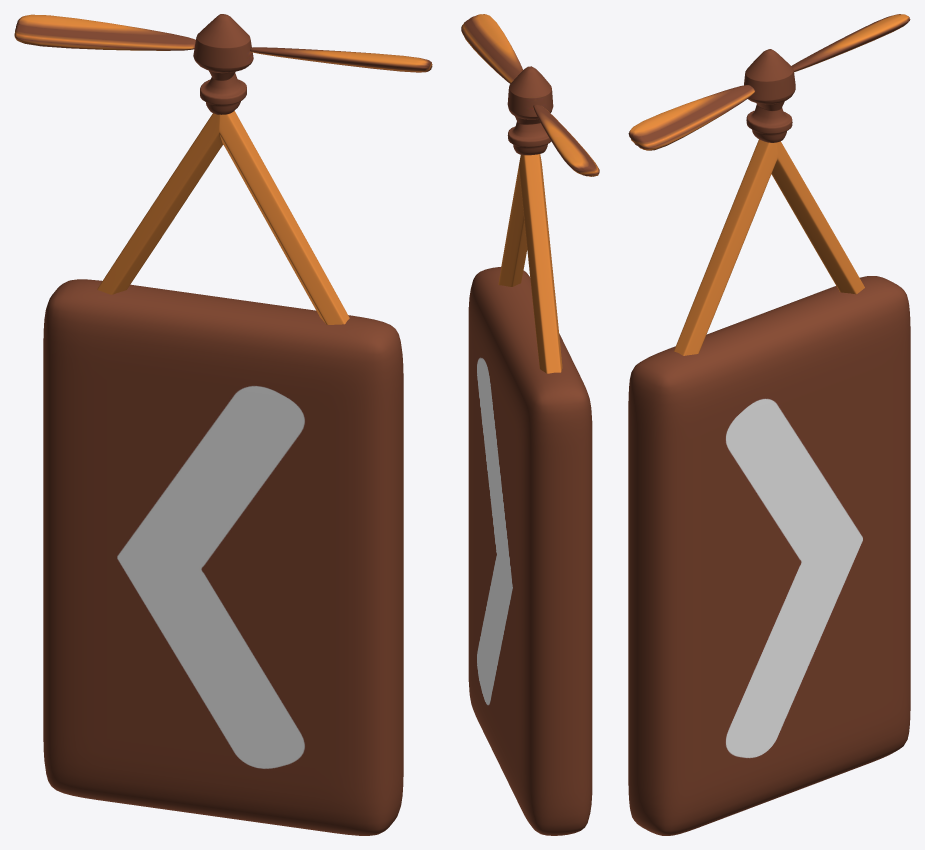
The model's file is directional_arrow.fbx.
The picture shows the model from 3 angles, left to right: view 1: azimuth 30°, elevation 25°; view 2: azimuth 150°, elevation 25°; view 3: azimuth 270°, elevation 25°; orthographic projection. The views are drawn at different scales.
Visible parts, largest first — view 1: directional_arrow_table, directional_arrow_wing; view 2: directional_arrow_table, directional_arrow_wing; view 3: directional_arrow_table, directional_arrow_wing.
Part boxes in pixels (left/top/right/bottom): directional_arrow_table: left=43, top=14, right=403, bottom=835; directional_arrow_wing: left=14, top=14, right=432, bottom=72; directional_arrow_table: left=468, top=66, right=592, bottom=835; directional_arrow_wing: left=461, top=14, right=599, bottom=176; directional_arrow_table: left=628, top=49, right=910, bottom=835; directional_arrow_wing: left=628, top=14, right=910, bottom=150.
Size of the model in its own units: 8.17 by 21.87 by 7.54.
1 material, 1 textured.
